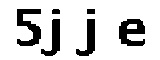5: (11, 5, 46, 48)
e: (114, 15, 153, 55)
j: (73, 4, 103, 60), (42, 5, 68, 60)
